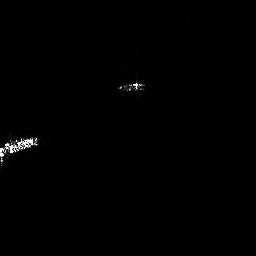ship: (1, 132, 43, 169), (114, 78, 148, 96)
